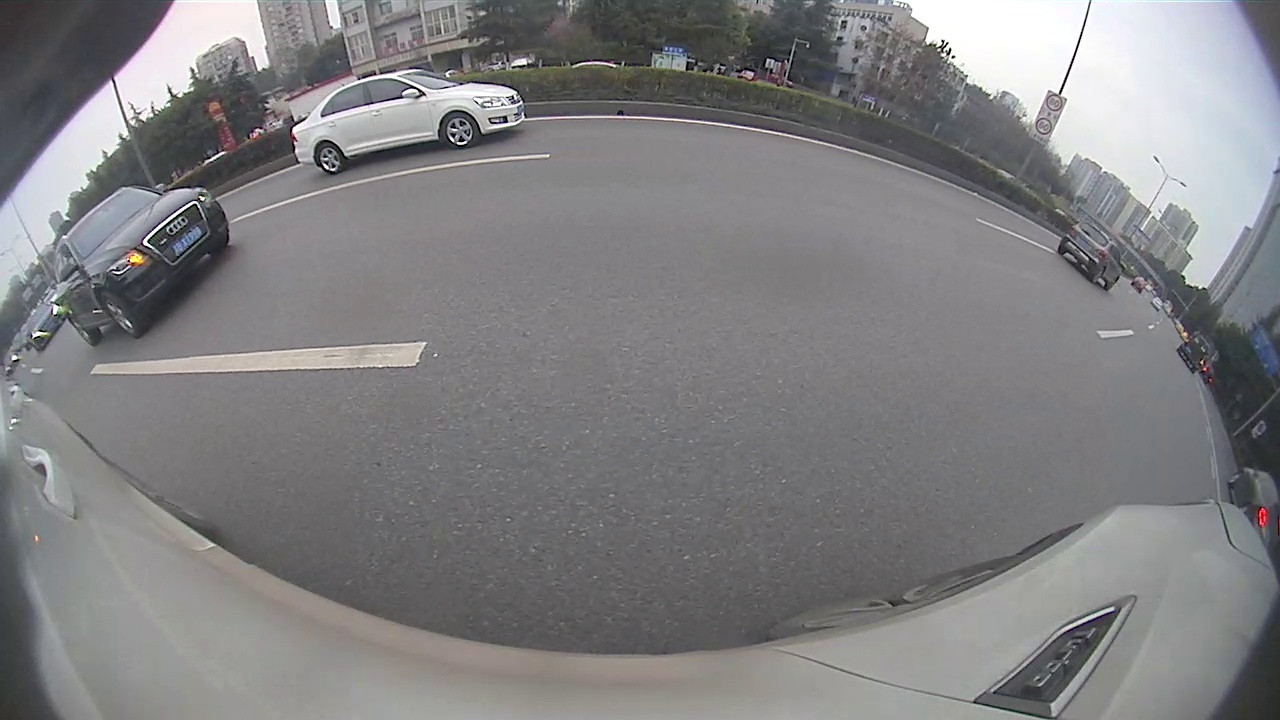car: (56, 186, 229, 346), (290, 74, 524, 174), (1059, 218, 1123, 290), (1230, 463, 1278, 548), (1177, 334, 1211, 375)
front: (98, 287, 143, 338), (440, 111, 478, 151)
rear: (67, 315, 102, 346), (315, 142, 348, 174)
